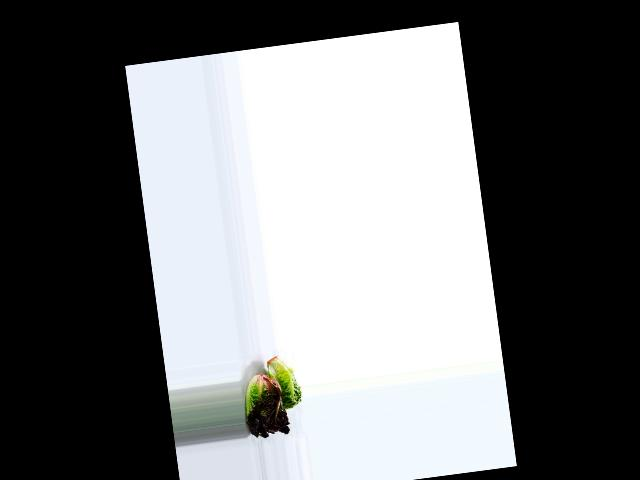lettuce: (263, 351, 303, 412)
